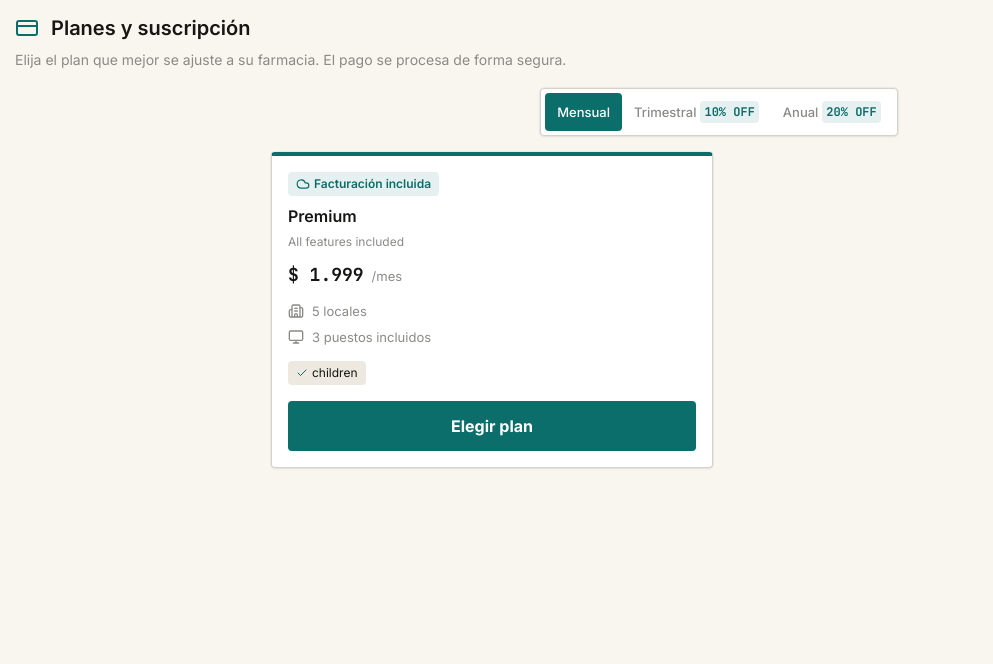
Test: LicensingPlansPage › hands the selected plan to the shared checkout customer step
Step 1. Click the radio button labelled "Anual 20% OFF" → click(832, 112), box [771,93,893,131]
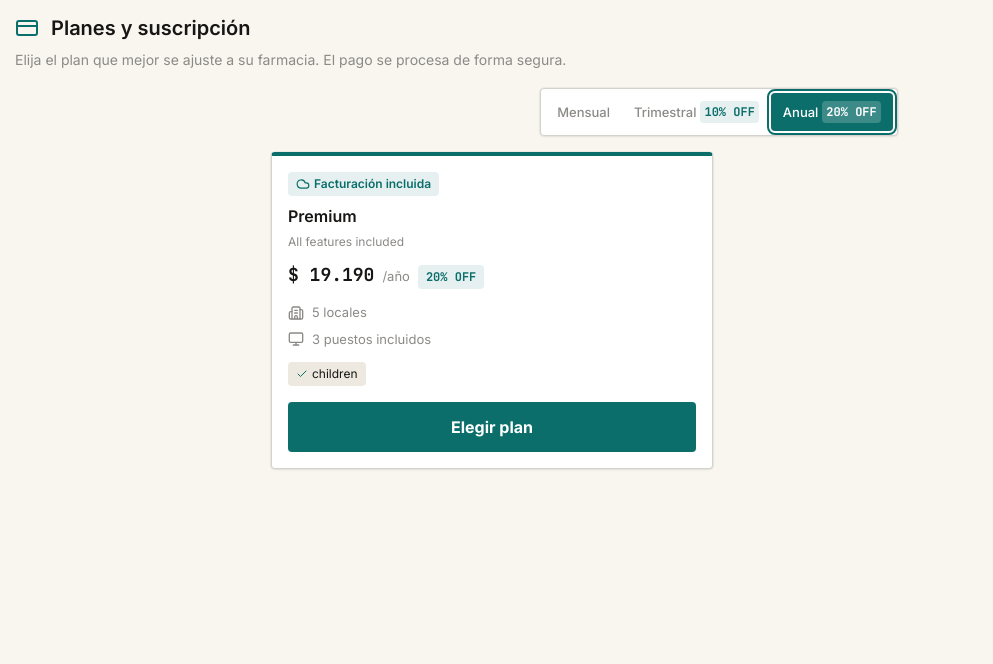
Step 2. Click the button "Elegir plan" → click(492, 427), box [288,402,696,452]
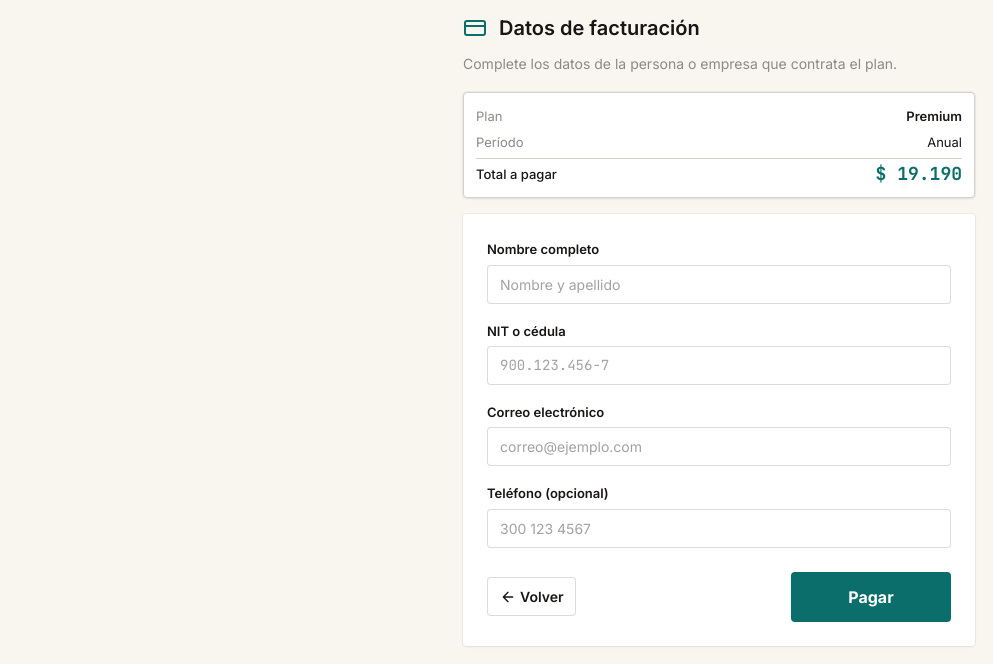
Now the text "$ 19.190" is shown, box [876,163,962,185]
Now the heading "Datos de facturación" is shown, box [499,17,700,39]
